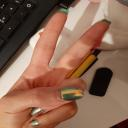PeaceSign: (3, 8, 118, 128)
